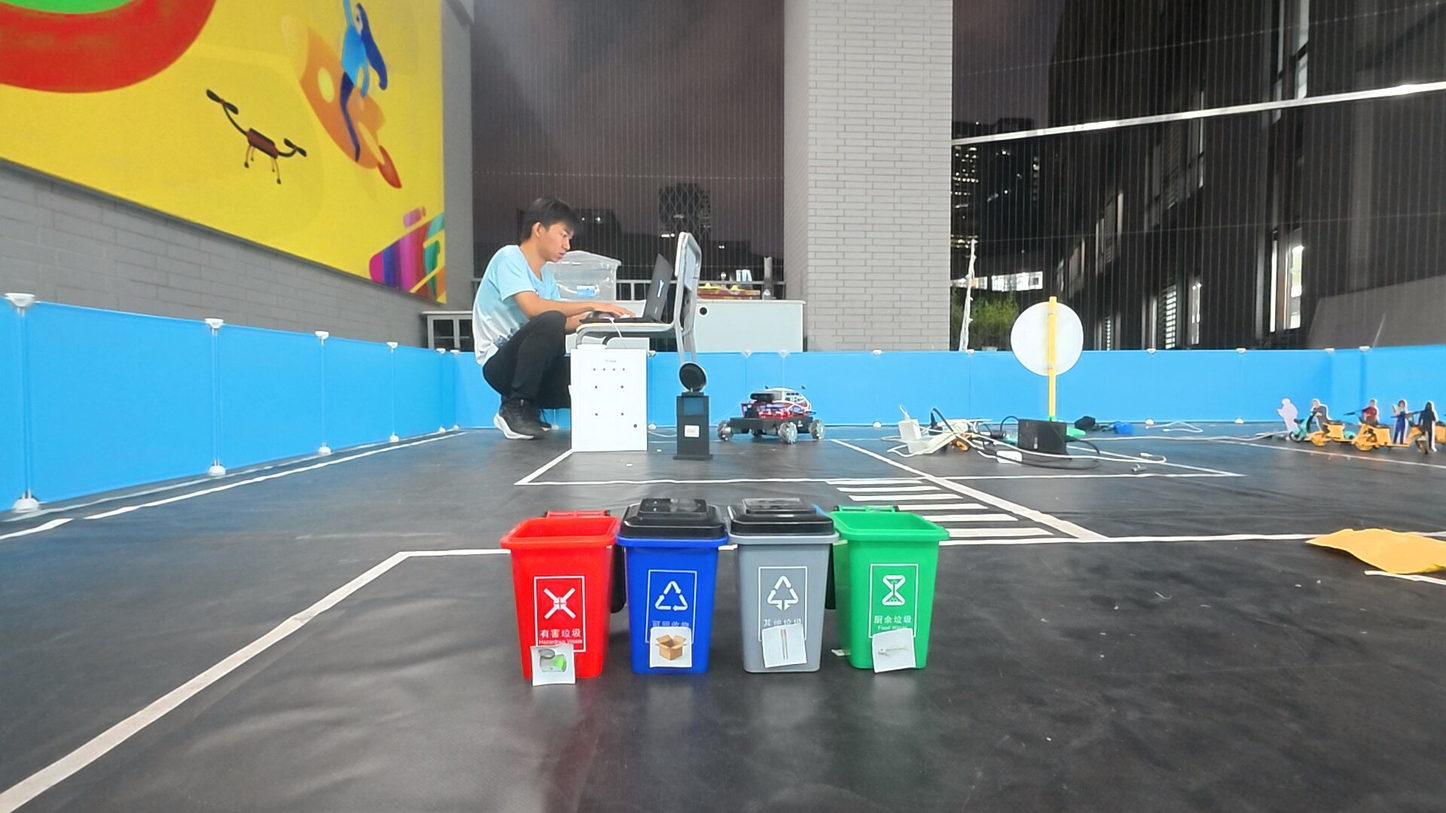food_trash: (875, 632, 912, 668)
hazardous_trash: (535, 648, 573, 683)
other_trash: (764, 627, 801, 662)
recyclable_trash: (654, 629, 688, 664)
